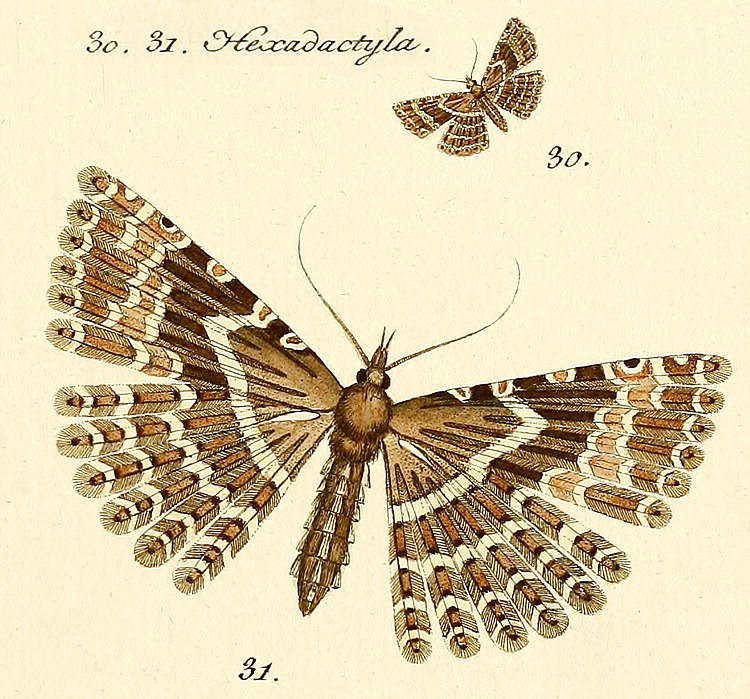Alucitidae: (40, 160, 736, 664)
moth: (42, 162, 738, 666)
